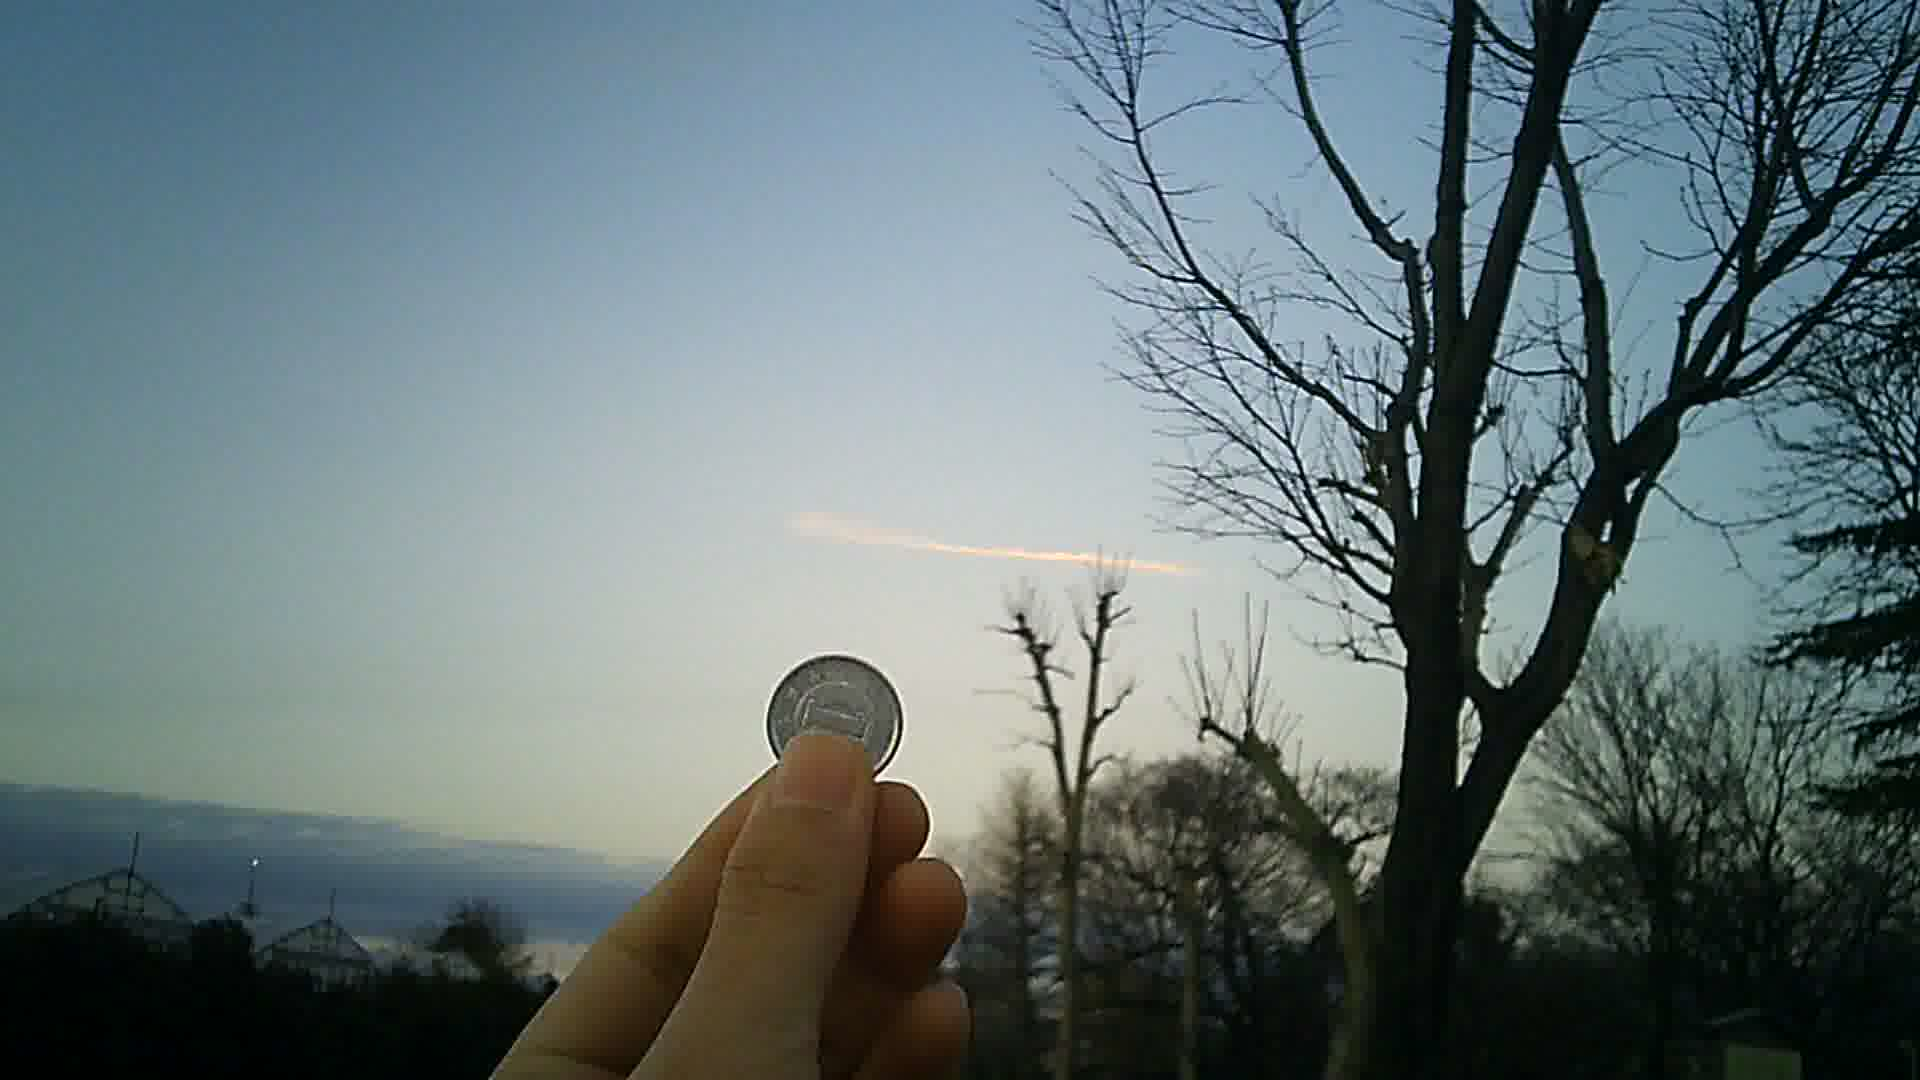1 Yen: (753, 647, 913, 789)
